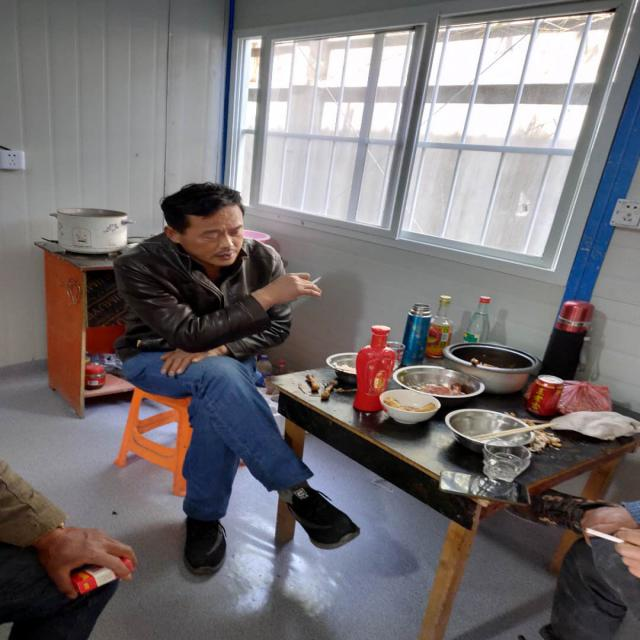smoke: (307, 273, 323, 283)
